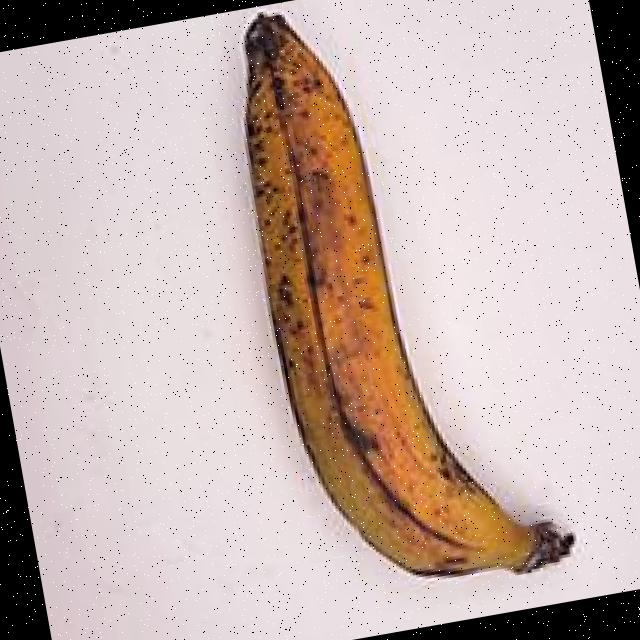Overripe: (140, 0, 608, 640)
